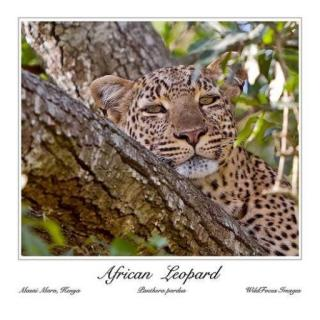Leopard: (70, 42, 316, 236)
